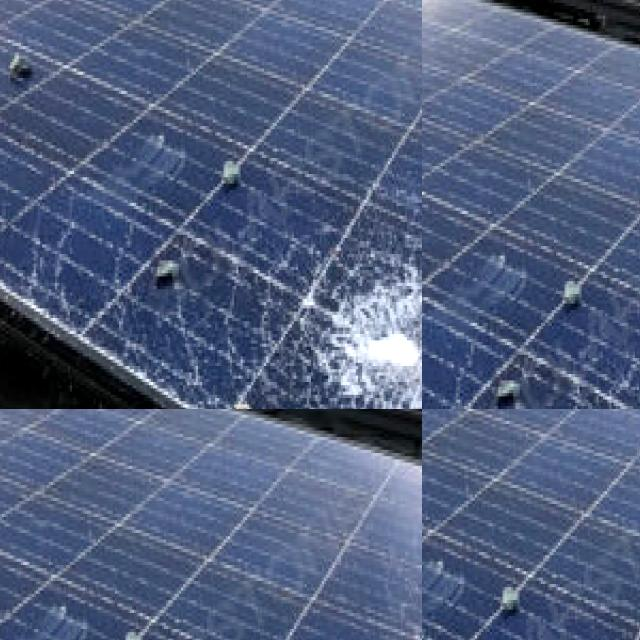bird: (10, 237, 97, 329), (171, 247, 246, 341), (102, 341, 181, 409), (128, 192, 214, 234), (272, 240, 324, 304)
dust: (22, 432, 281, 582), (455, 105, 632, 278), (437, 450, 589, 540)
